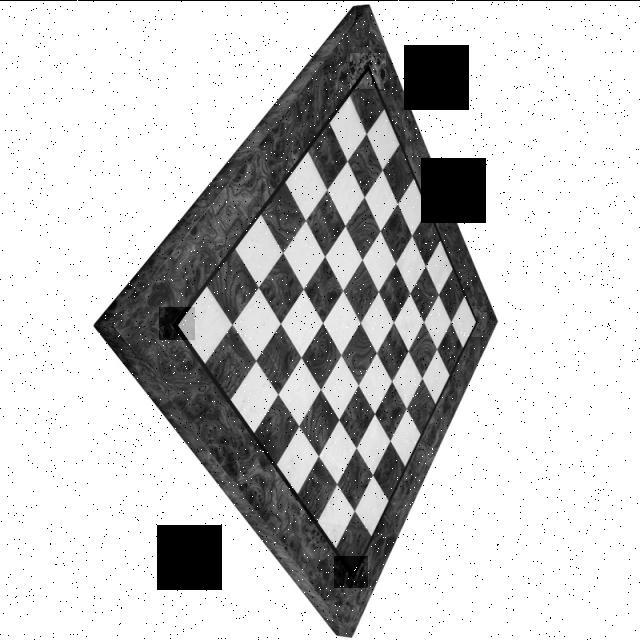chess-table-corners: (350, 52, 386, 88), (159, 306, 195, 339), (334, 555, 368, 587), (460, 305, 487, 336)
